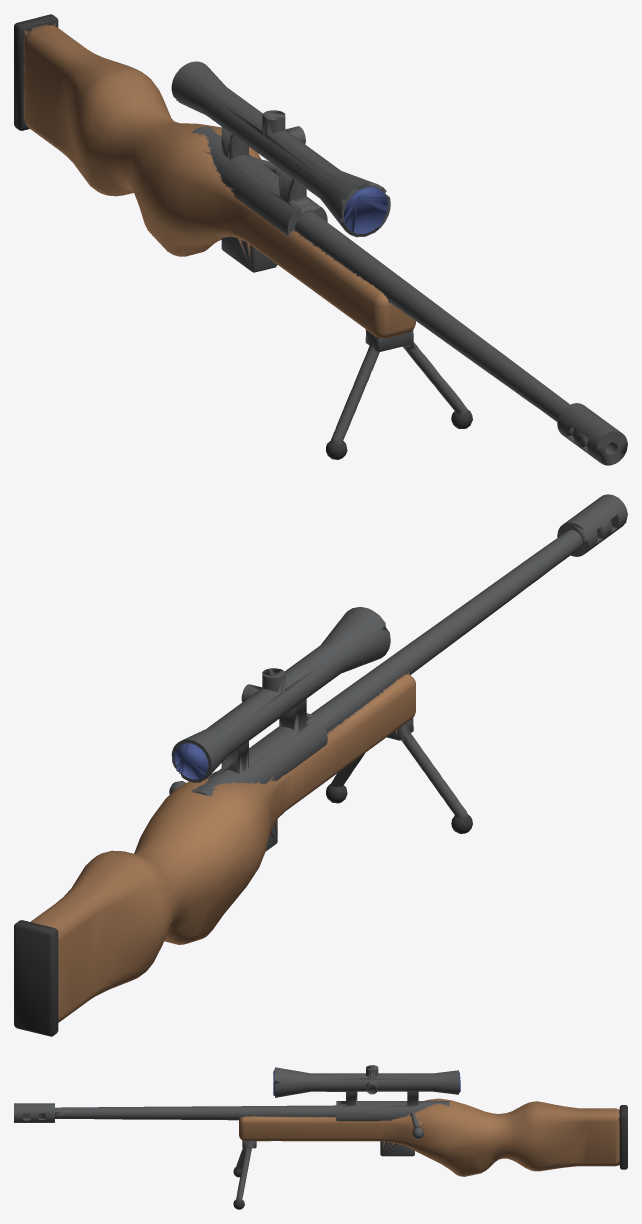
File: sniper.glb
The picture shows the model from 3 angles, top to bottom: view 1: azimuth 30°, elevation 25°; view 2: azimuth 150°, elevation 25°; view 3: azimuth 270°, elevation 25°; orthographic projection. The views are drawn at different scales.
Parts seen in each view (by area): view 1: body; view 2: body; view 3: body.
Boxes of the visible parts, <box> form: body: <box>14,14,627,465</box>; body: <box>14,494,627,1036</box>; body: <box>14,1065,627,1209</box>.
Bounding box in the file's own units: 0.1725 × 0.2702 × 1.2.
